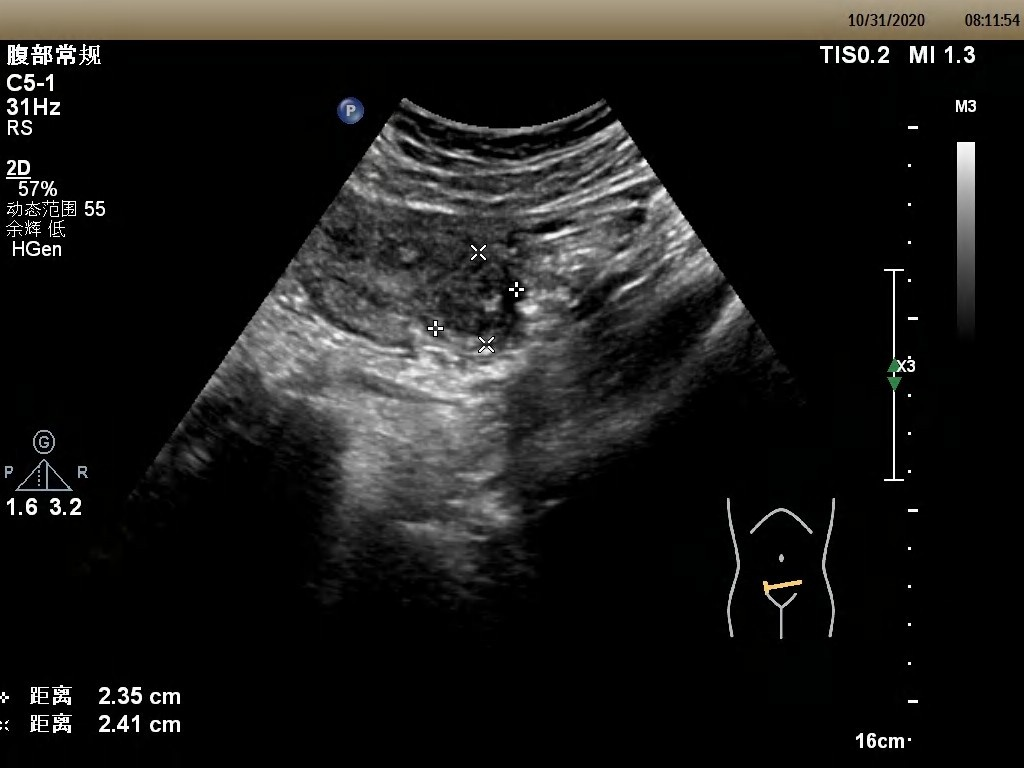肌瘤: (439, 265, 520, 336)
